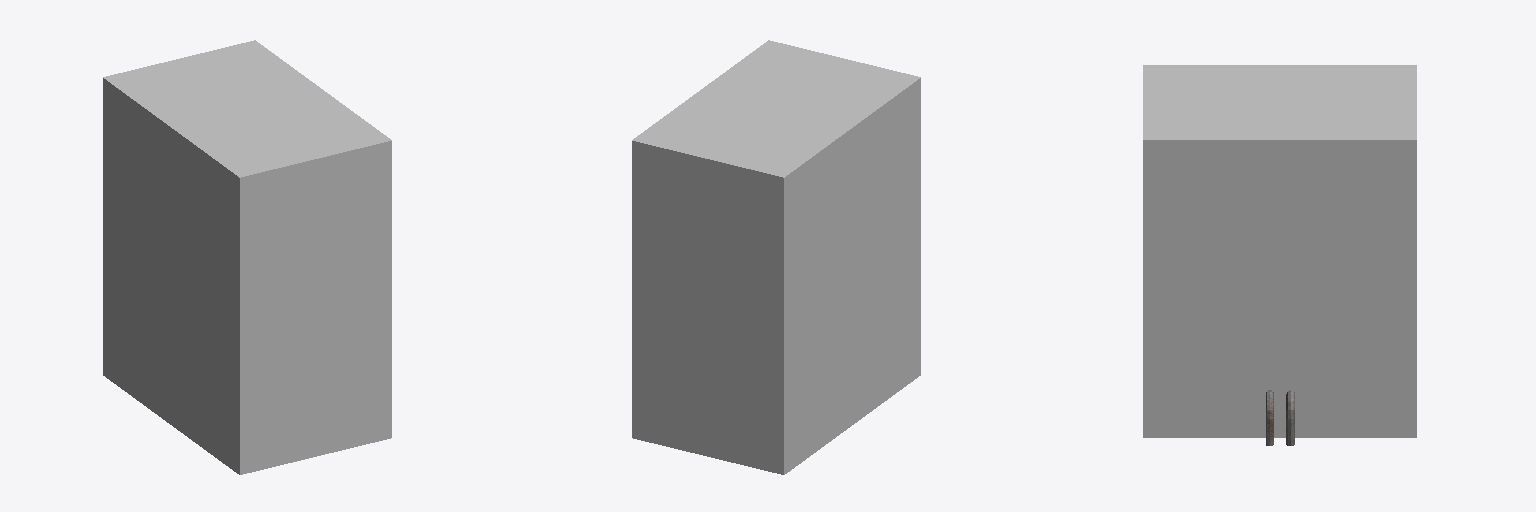
3 views of the same model, side by side, from view 1: azimuth 30°, elevation 25°; view 2: azimuth 150°, elevation 25°; view 3: azimuth 270°, elevation 25° (orthographic).
Parts seen in each view (by area): view 1: Generator_cBox_Cube.054; view 2: Generator_cBox_Cube.054; view 3: Generator_cBox_Cube.054, Generator_Cube.013.
Boxes of the visible parts, <box> form: Generator_cBox_Cube.054: <box>103,40,391,474</box>; Generator_cBox_Cube.054: <box>632,40,920,474</box>; Generator_cBox_Cube.054: <box>1143,65,1416,437</box>; Generator_Cube.013: <box>1266,390,1294,445</box>.
Size of the model in its own units: 2.83 by 4.76 by 3.97.
2 materials, 1 textured.